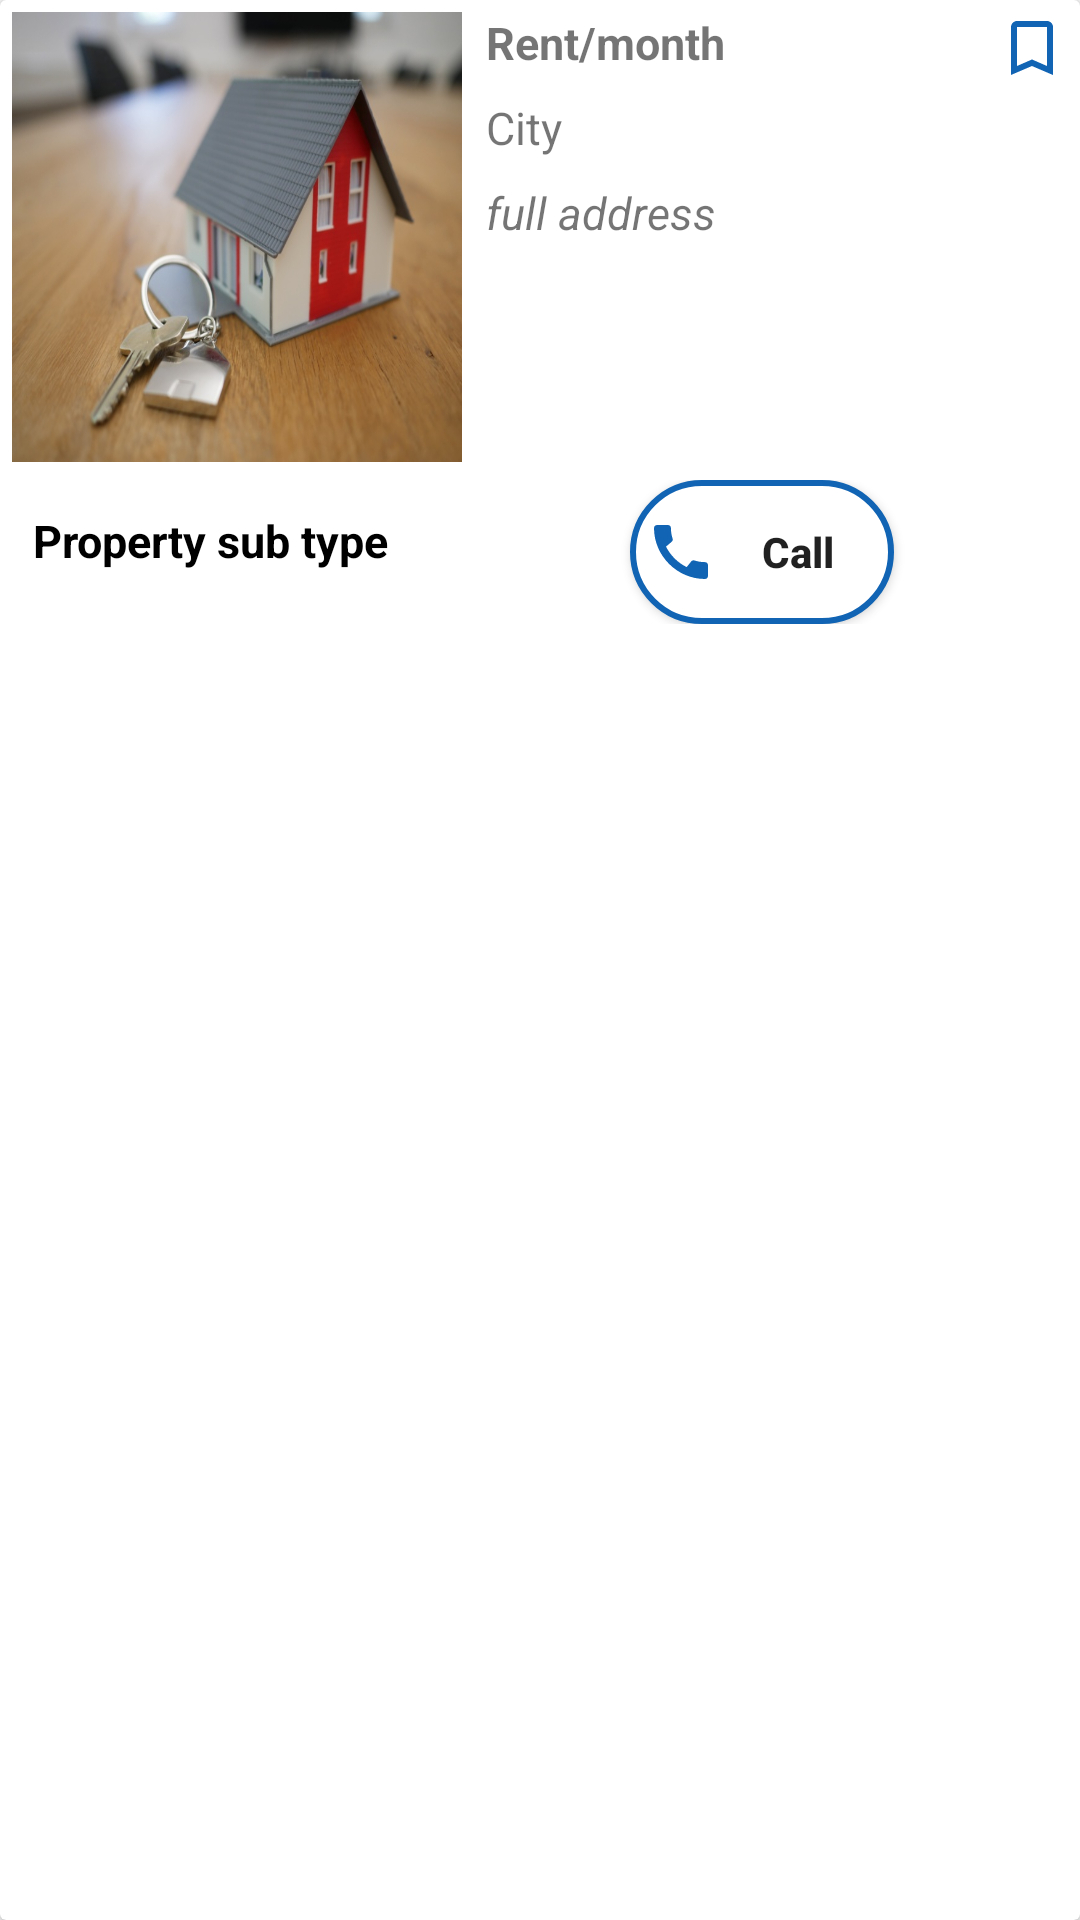

Screen size 1080 x 1920. Icon name, then its center in pixels as (x=x, y=y):
bookmark border rgb: (x=1032, y=48)
